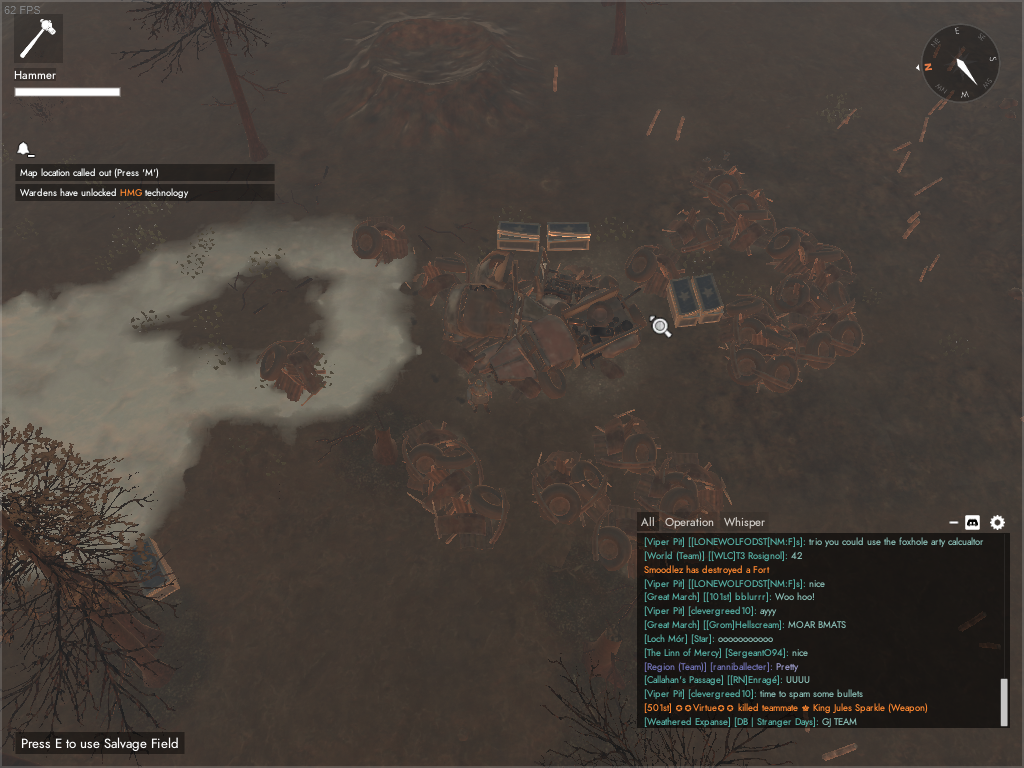player: (460, 374, 498, 416)
scrap: (399, 419, 513, 552), (633, 447, 731, 576), (760, 261, 873, 371), (715, 283, 805, 396), (618, 207, 727, 298), (528, 447, 614, 529), (587, 399, 666, 479), (764, 220, 858, 287), (707, 183, 789, 259), (251, 332, 334, 407), (592, 507, 670, 584), (686, 150, 749, 212), (348, 213, 413, 267)
scrapyard: (400, 247, 667, 412)
storage_box: (118, 528, 183, 605), (490, 214, 543, 257), (662, 274, 703, 328), (690, 270, 727, 328), (541, 214, 593, 254)
